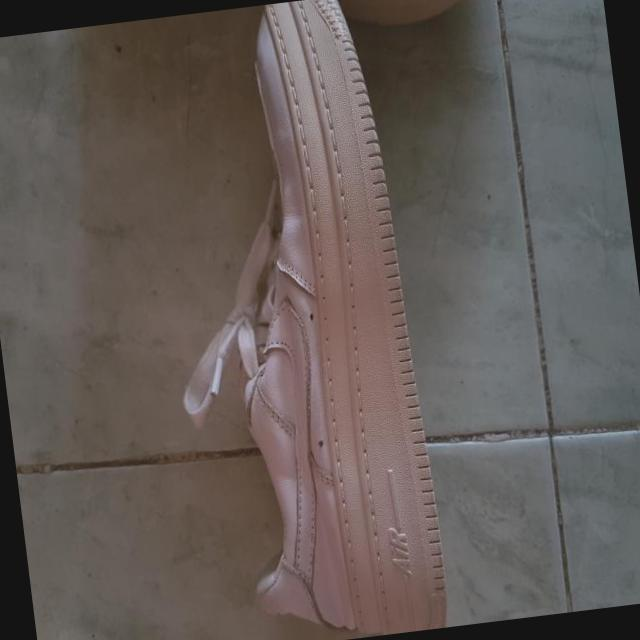nike_fake_airforce: (185, 0, 453, 640)
